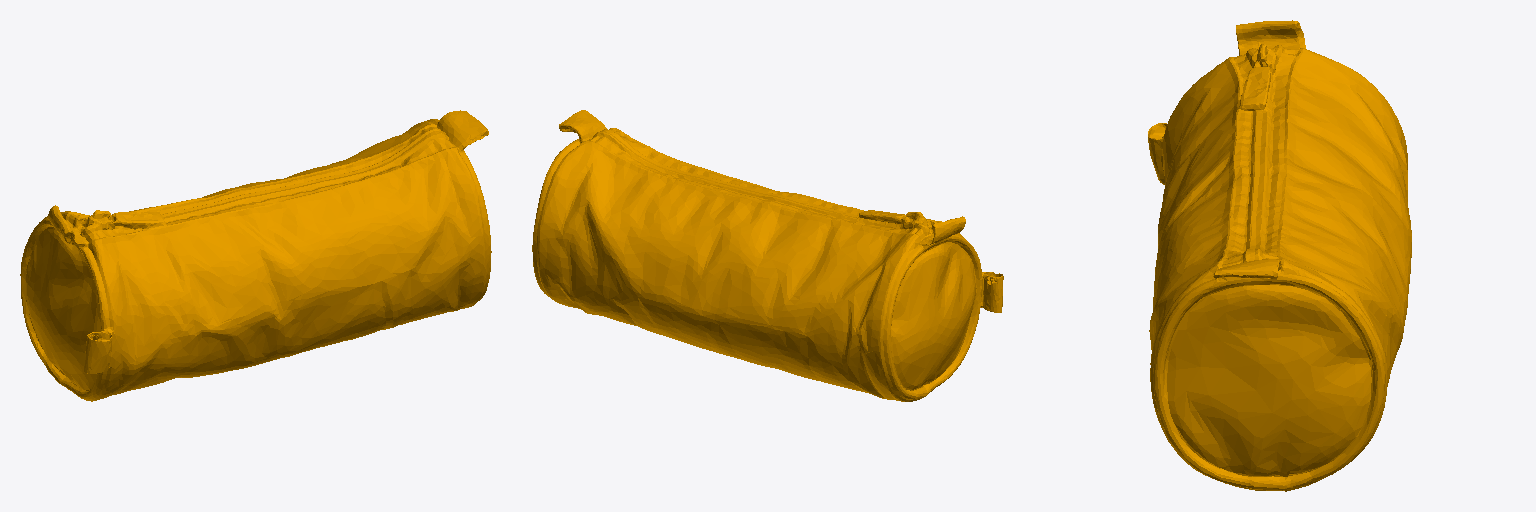
URDF robot description (Wishbone_Pencil_Case):

<robot name="Wishbone_Pencil_Case">
    <link name="base">
        <inertial>
            <origin xyz="0.0 -2.3604810768309356e-18 2.0982054016274984e-18" />
            <mass value="0.0010765173534771368" />
            <inertia ixx="9.247386636478412e-07" ixy="1.0620126596458075e-07" 
                     ixz="-8.311570980427924e-08" iyy="4.136770204051669e-06" 
                     iyz="1.825697063548946e-08" izz="4.195207279767406e-06" />
        </inertial>
        <visual>
            <origin xyz="0 0 0" />
            <geometry>
                <mesh filename="visual_geometry.obj" />
            </geometry>
        </visual>
        <collision>
            <origin xyz="0 0 0" />
            <geometry>
                <mesh filename="collision_geometry.obj" />
            </geometry>
        </collision>
    </link>
</robot>

--- Render facts (derived) ---
3 views of the same robot in one strip: view 1: azimuth 30°, elevation 25°; view 2: azimuth 150°, elevation 25°; view 3: azimuth 270°, elevation 25° (orthographic).
Model Wishbone_Pencil_Case with 1 links and 0 joints (none), rooted at base, posed all joints at 0.
Visible links, largest first — view 1: base; view 2: base; view 3: base.
Link boxes in pixels (x1,y1,x2,y2): base: (20, 110, 491, 401); base: (532, 110, 1003, 401); base: (1148, 20, 1411, 491).
Size in the robot's own frame: 0.2212 by 0.0928 by 0.0946 metres.
1 mesh visuals loaded from 1 distinct referenced files (1 OBJ).